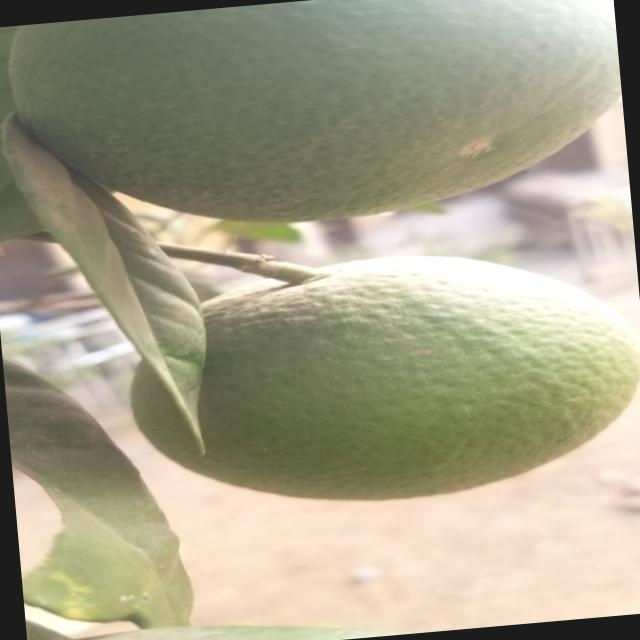agrume: (0, 0, 629, 238), (130, 238, 640, 517)
